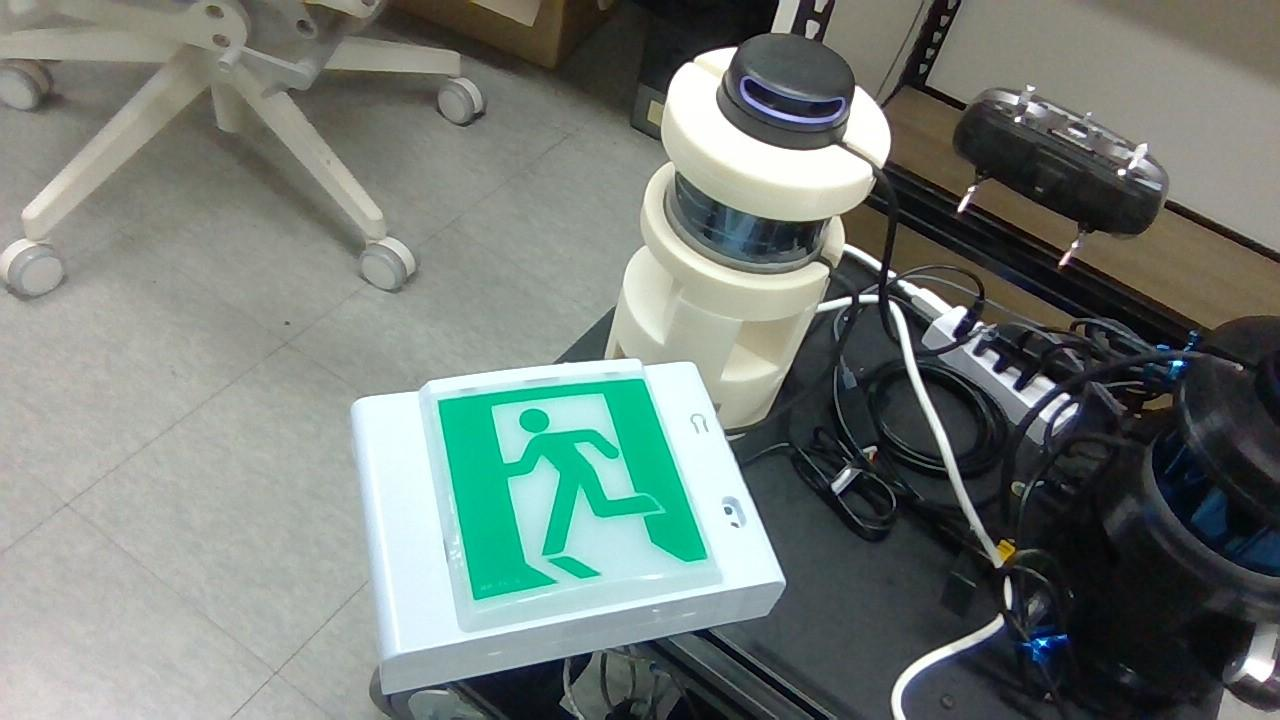emergency_exit: (350, 355, 788, 694), (420, 358, 715, 622)
